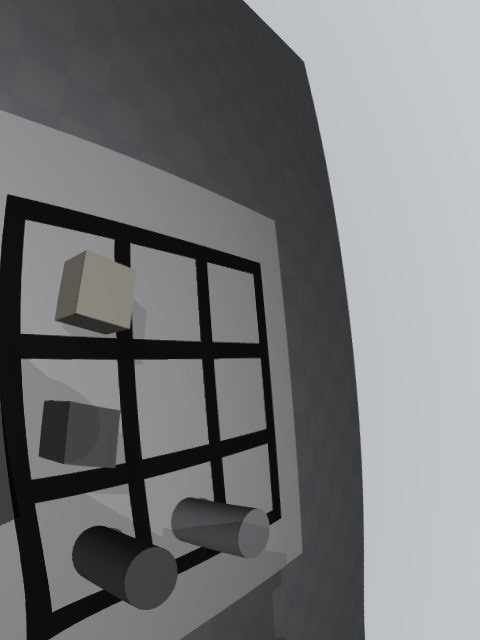can: (171, 497, 270, 559)
cube: (38, 400, 121, 468)
cylinder: (72, 525, 178, 610)
foam: (55, 250, 137, 335)
